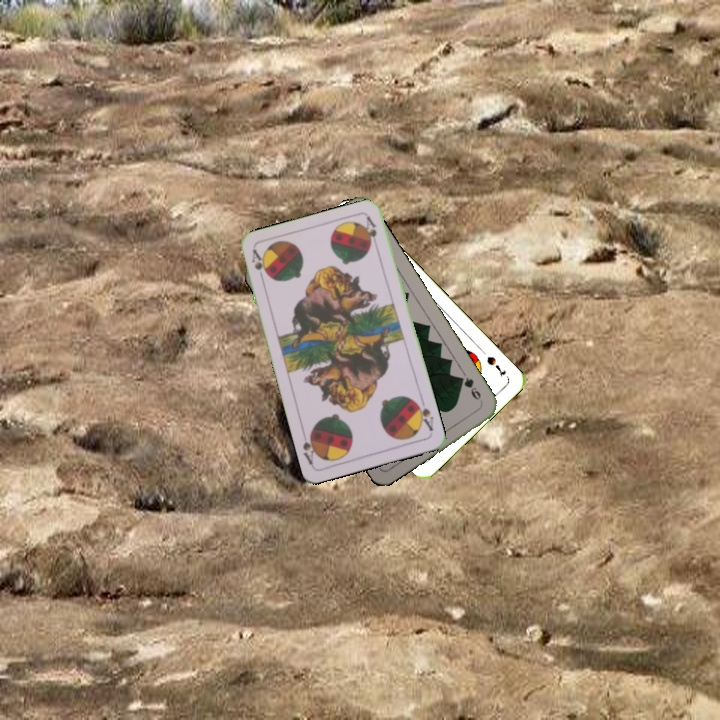G9: (455, 373, 485, 406)
S7: (483, 352, 509, 380)
SA: (247, 245, 271, 286), (411, 395, 436, 434)
